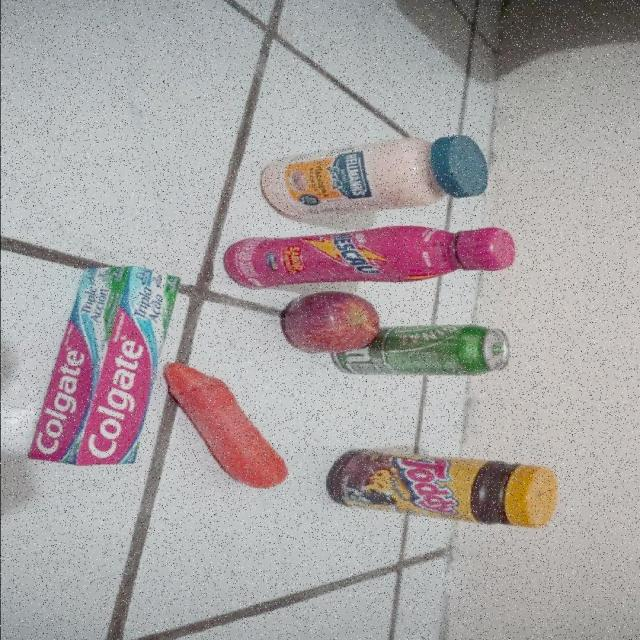Apple: (278, 292, 379, 352)
BeerCan: (333, 324, 511, 378)
Carrot: (165, 362, 289, 491)
ChocolateMilk: (225, 225, 516, 288)
ChocolatePowder: (327, 449, 560, 531)
Mayonnaise: (261, 135, 489, 219)
Toothpaste: (26, 265, 180, 469)
